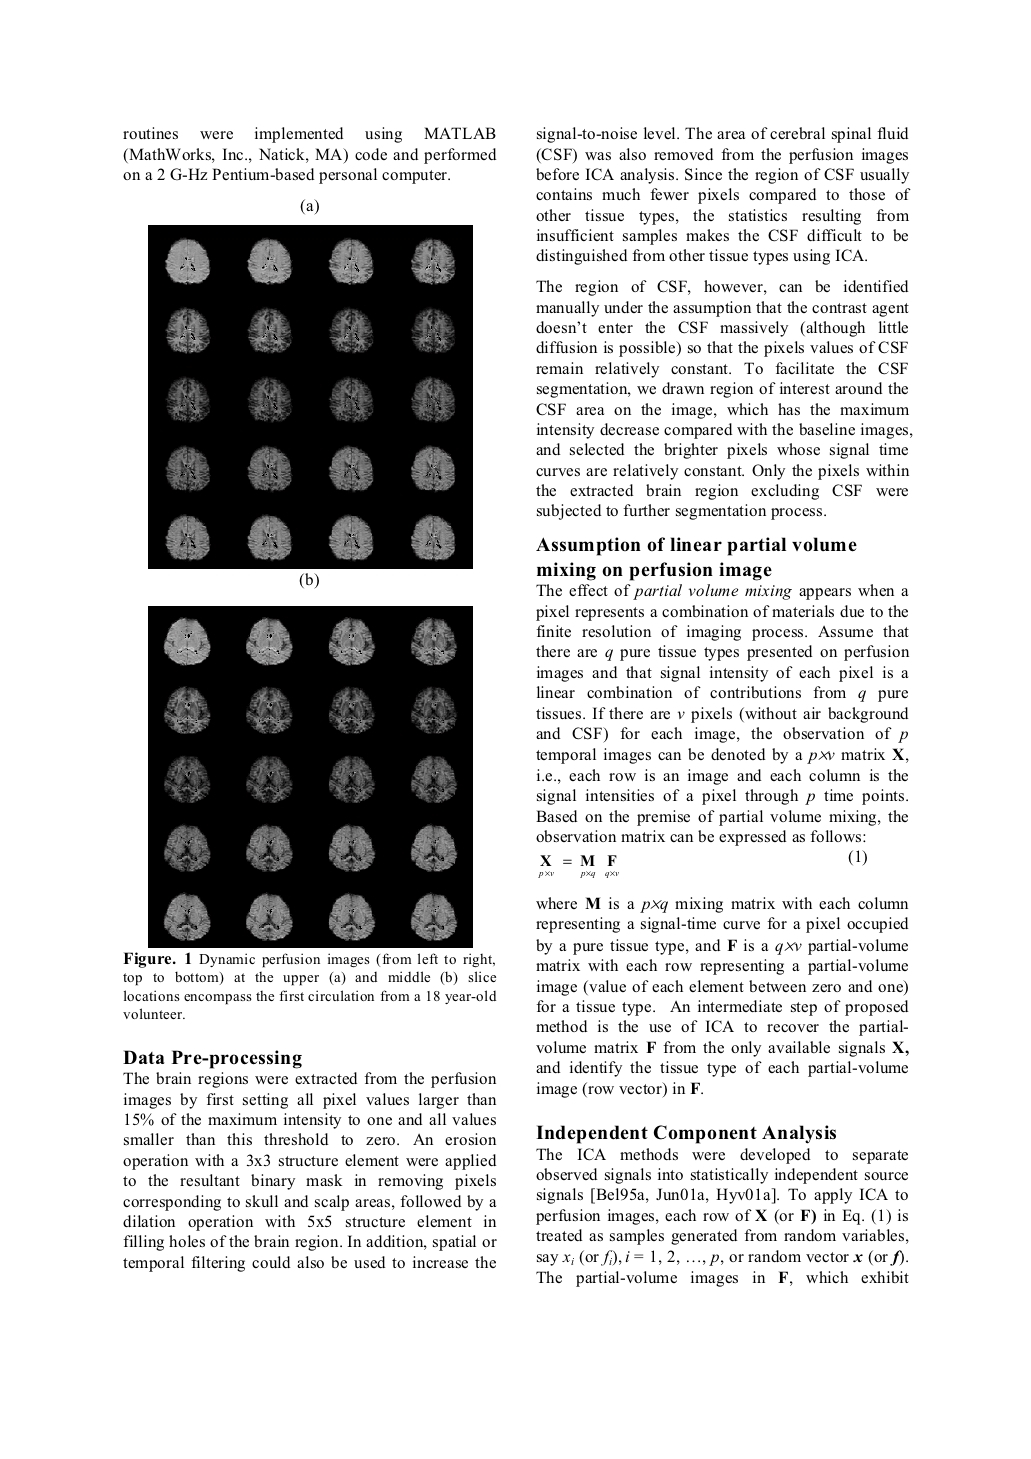figure: (148, 224, 472, 569), (148, 605, 472, 948)
formula: (538, 850, 866, 877)
